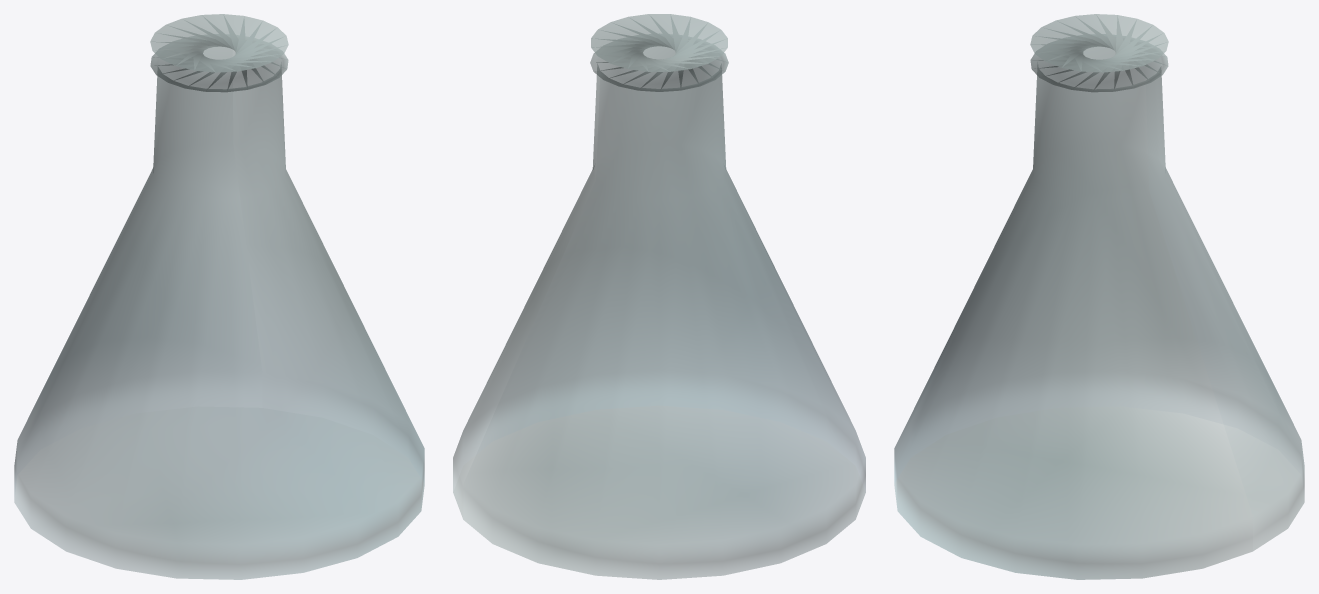
File: lab-flask--3.gltf
The picture shows the model from 3 angles, left to right: view 1: azimuth 30°, elevation 25°; view 2: azimuth 150°, elevation 25°; view 3: azimuth 270°, elevation 25°; orthographic projection.
Parts seen in each view (by area): view 1: Bottle_2; view 2: Bottle_2; view 3: Bottle_2.
Part boxes in pixels (x1,y1,x2,y2): Bottle_2: (14, 14, 424, 579); Bottle_2: (453, 14, 865, 579); Bottle_2: (894, 14, 1304, 579).
Bounding box in the file's own units: 0.1927 × 0.233 × 0.1927.
Materials: 1 (1 with a texture image).
